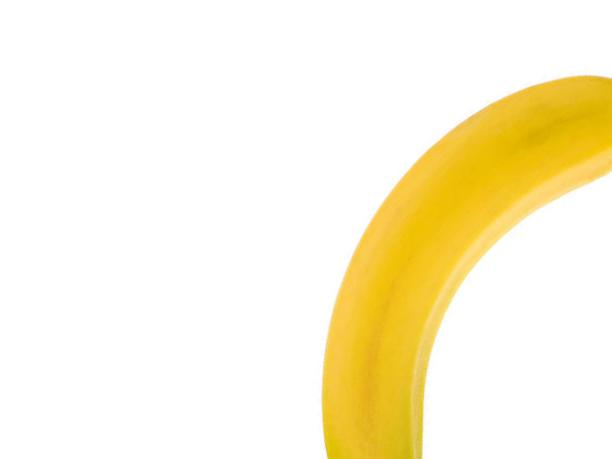banana: (319, 72, 612, 458)
